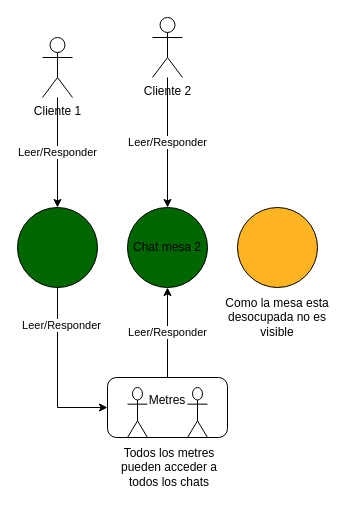
The diagram is 350 pixels wide and 506 high, and some of its shapes have lost their labels. The box of each missing label's shape, as (x1, y1, x2, y2) in pixels:
Chat mesa 1: (16, 206, 98, 288)
Chat mesa 3..: (236, 206, 318, 288)
